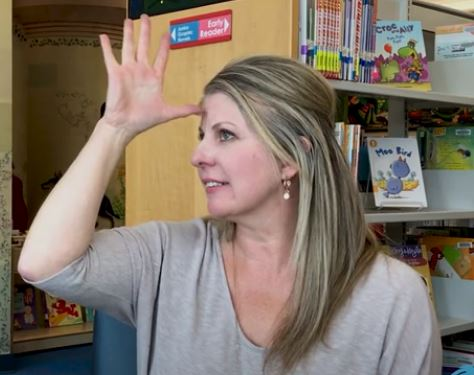dad: (98, 13, 279, 150)
